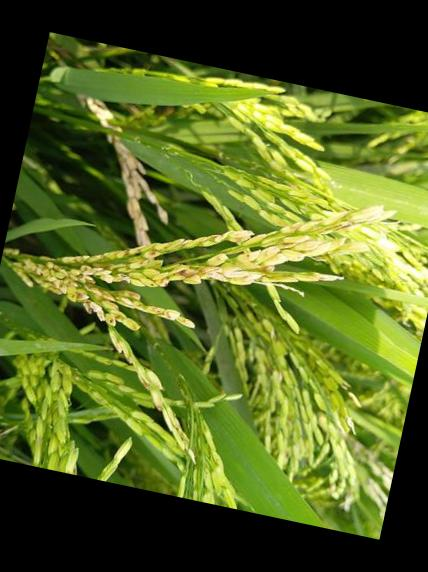Panicle Blight: (125, 290, 178, 320), (79, 245, 143, 262), (137, 368, 162, 411), (126, 249, 158, 269), (112, 309, 139, 332), (174, 265, 220, 277), (210, 230, 252, 243), (46, 276, 66, 294), (329, 220, 357, 232), (251, 264, 274, 274), (113, 272, 129, 283), (102, 313, 115, 326), (154, 276, 169, 287), (78, 263, 91, 274), (98, 291, 111, 301), (77, 292, 86, 299)
